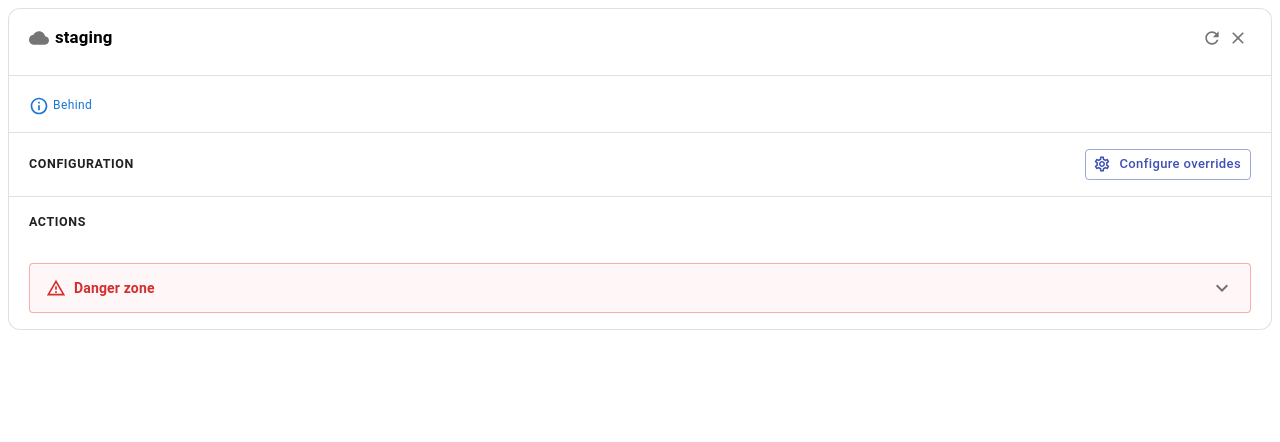
Test case: EnvironmentDetailPanel › reveals Remove deployment when the danger zone is expanded
Click the button labelled "Danger zone": [114, 288] box x1=46 y1=276 x2=1234 y2=300
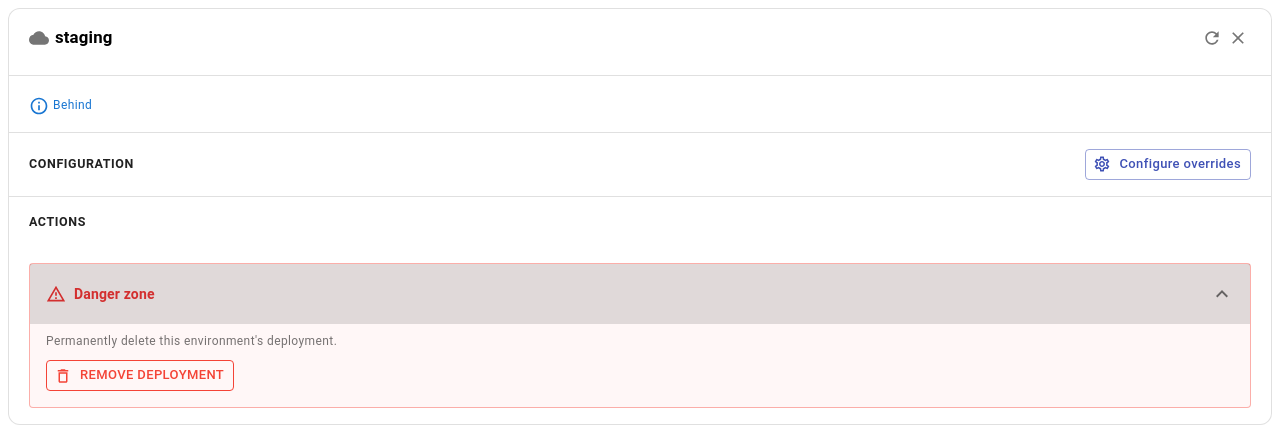
Expected: the button "Remove deployment" is enabled, x1=46 y1=360 x2=234 y2=391
